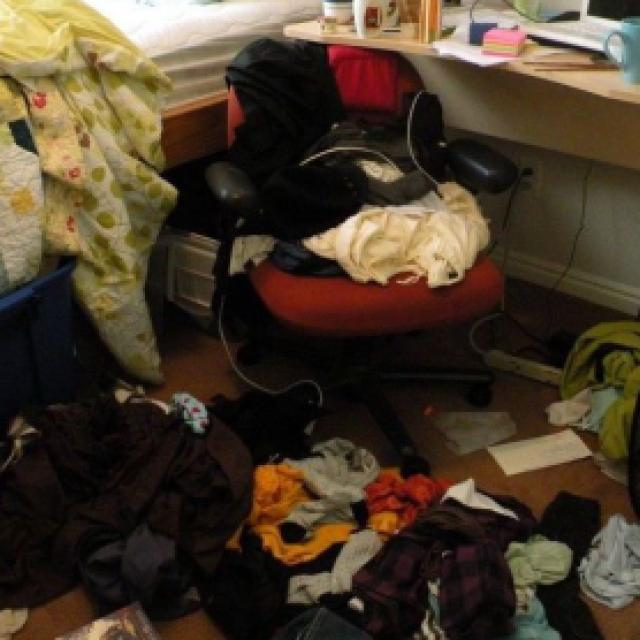scattered-items: (0, 361, 640, 640), (242, 62, 486, 298)
